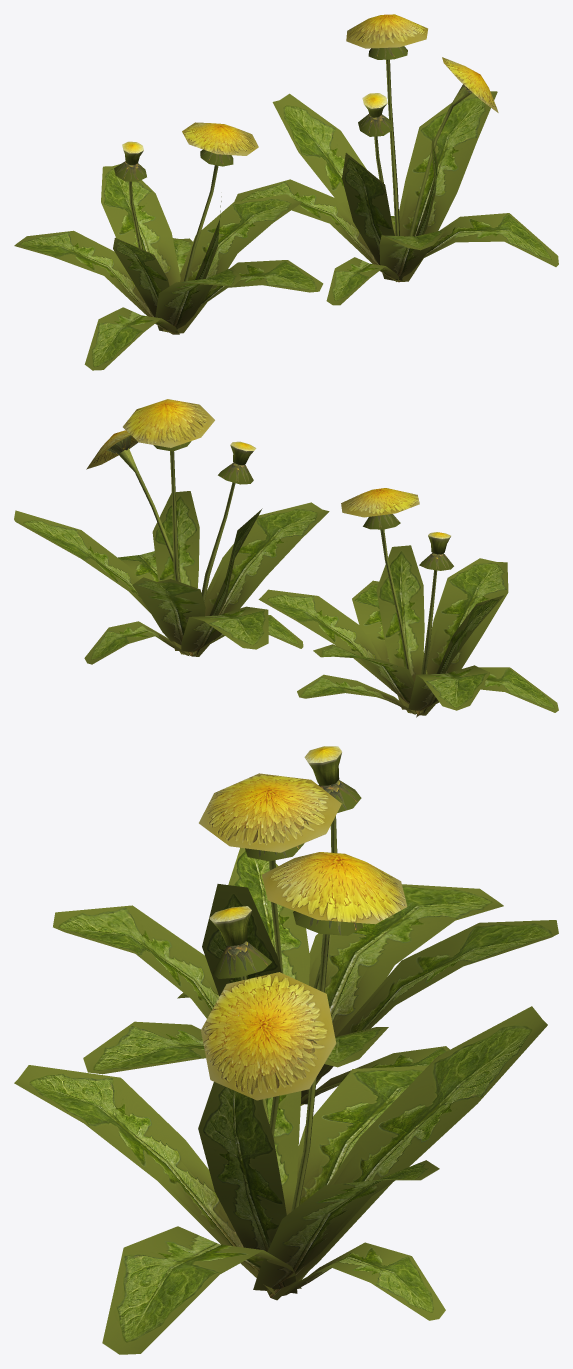
The model's file is Dandelion.FBX.
3 views of the same model, one above another, from view 1: azimuth 30°, elevation 25°; view 2: azimuth 150°, elevation 25°; view 3: azimuth 270°, elevation 25° (orthographic). The views are drawn at different scales.
Visible parts, largest first — view 1: Dandelion, Dandelion001; view 2: Dandelion, Dandelion001; view 3: Dandelion, Dandelion001.
Boxes of the visible parts, x1,y1,x2,y2 form: Dandelion: [234, 14, 558, 305]; Dandelion001: [14, 122, 323, 370]; Dandelion: [14, 399, 329, 664]; Dandelion001: [258, 488, 558, 717]; Dandelion: [14, 852, 547, 1354]; Dandelion001: [53, 746, 558, 1105].
Bounding box in the file's own units: 113 × 59.24 × 65.63.
